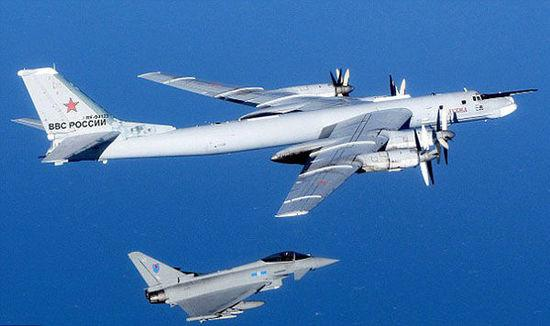airplane: (9, 59, 538, 217), (124, 246, 340, 325)
